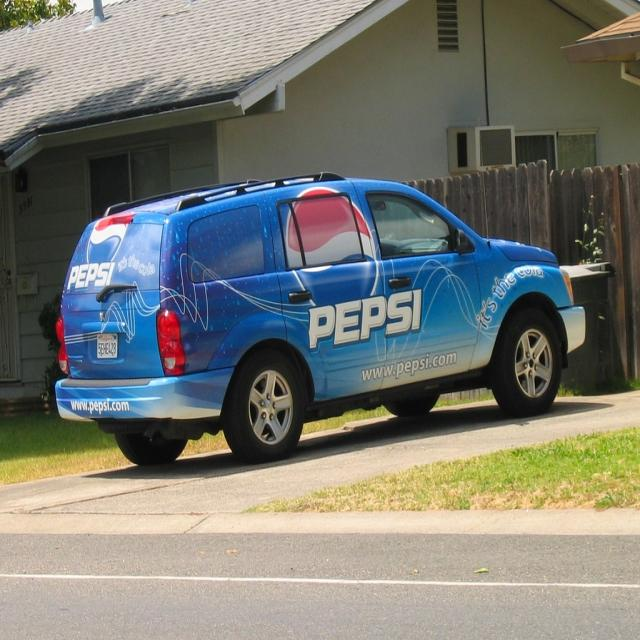pepsi: (283, 187, 384, 311), (84, 215, 131, 266)
